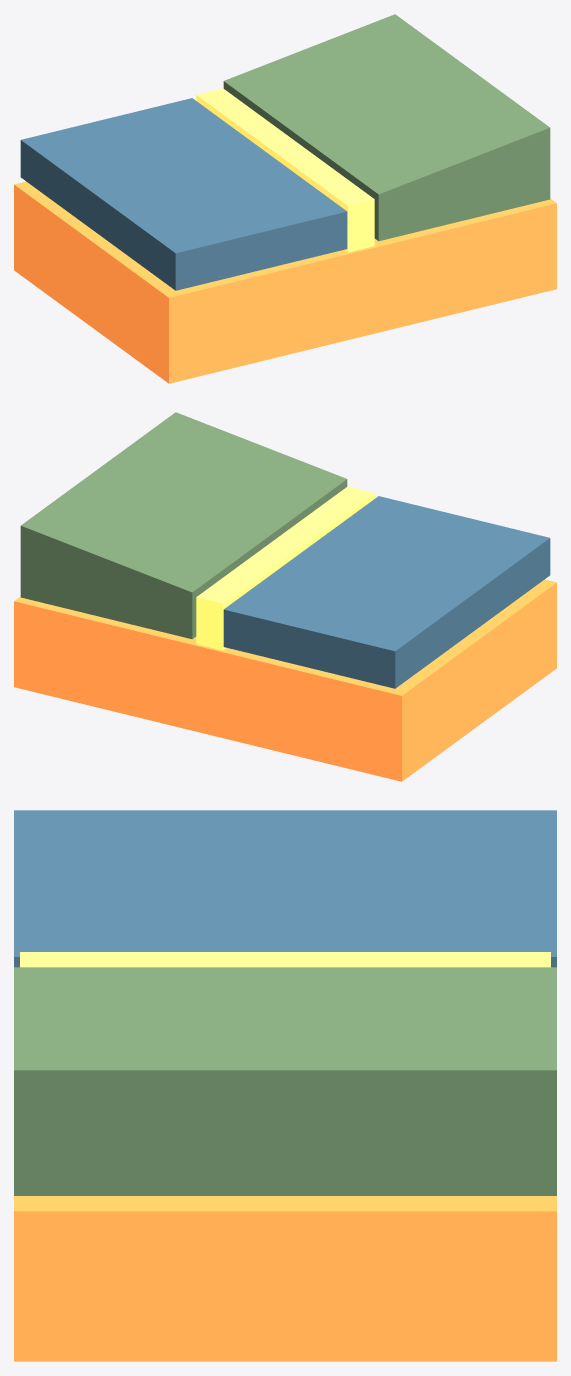
Rendered from lempeng-tektonik.glb.
3 renders of one model, top to bottom at view 1: azimuth 30°, elevation 25°; view 2: azimuth 150°, elevation 25°; view 3: azimuth 270°, elevation 25°, orthographic. The views are drawn at different scales.
Parts seen in each view (by area): view 1: Asthenosphere_Mantle, Plate_Right_Continental, Plate_Left_Oceanic, Magma_Upwelling_Zone; view 2: Asthenosphere_Mantle, Plate_Right_Continental, Plate_Left_Oceanic, Magma_Upwelling_Zone; view 3: Plate_Right_Continental, Asthenosphere_Mantle, Plate_Left_Oceanic, Magma_Upwelling_Zone.
Boxes of the visible parts, x1=… form: Asthenosphere_Mantle: x1=14, y1=181, x2=556, y2=383; Plate_Right_Continental: x1=223, y1=14, x2=550, y2=241; Plate_Left_Oceanic: x1=20, y1=98, x2=347, y2=290; Magma_Upwelling_Zone: x1=196, y1=88, x2=374, y2=252; Asthenosphere_Mantle: x1=14, y1=579, x2=556, y2=781; Plate_Right_Continental: x1=20, y1=412, x2=347, y2=639; Plate_Left_Oceanic: x1=223, y1=496, x2=550, y2=688; Magma_Upwelling_Zone: x1=196, y1=486, x2=374, y2=650; Plate_Right_Continental: x1=14, y1=967, x2=556, y2=1195; Asthenosphere_Mantle: x1=14, y1=1196, x2=556, y2=1361; Plate_Left_Oceanic: x1=14, y1=810, x2=556, y2=967; Magma_Upwelling_Zone: x1=20, y1=952, x2=550, y2=967.
Bounding box in the file's own units: 2.6 × 1.05 × 1.8.
